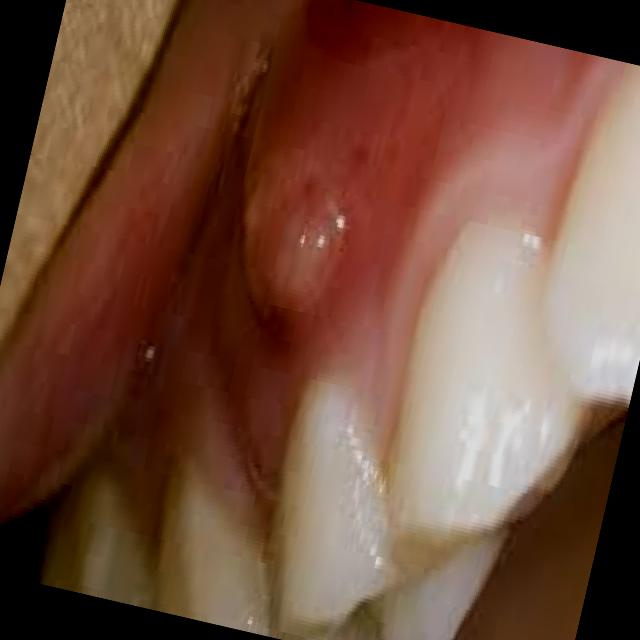abscess: (195, 62, 398, 396)
